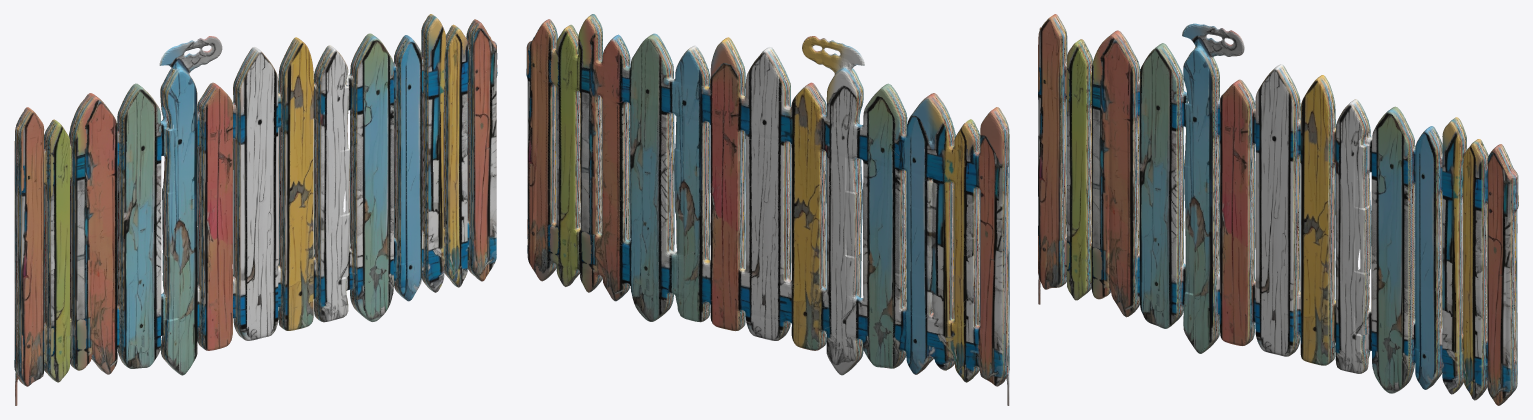
The model's file is fence.glb.
3 renders of one model, left to right at view 1: azimuth 30°, elevation 25°; view 2: azimuth 150°, elevation 25°; view 3: azimuth 330°, elevation 25°, orthographic.
Parts seen in each view (by area): view 1: fence; view 2: fence; view 3: fence.
Boxes of the visible parts, x1,y1,x2,y2 form: fence: (14, 14, 497, 405); fence: (526, 14, 1009, 405); fence: (1038, 14, 1518, 405).
Size of the model in its own units: 1.9 by 1.25 by 0.0569.
1 material, 1 textured.
